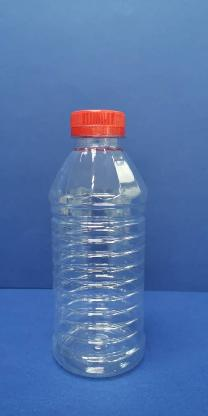Plastic Bottle: (48, 108, 148, 378)
